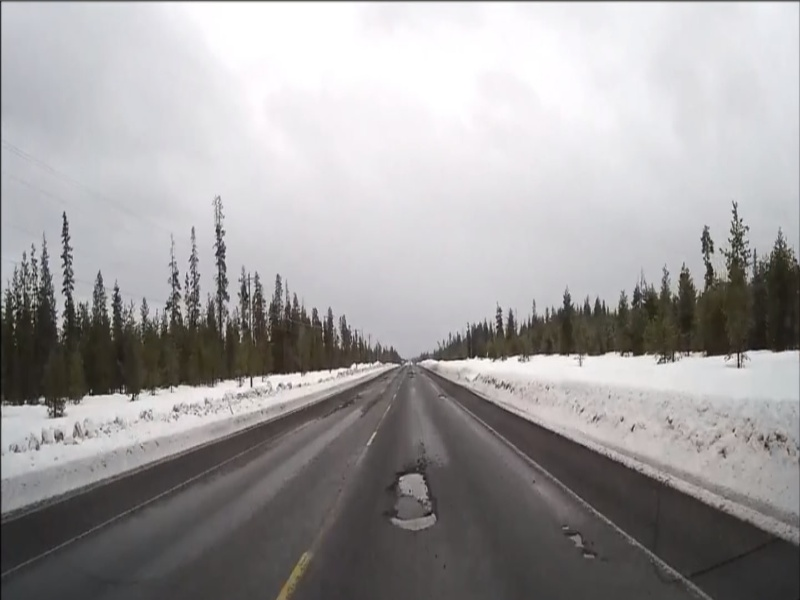pothole: (386, 463, 439, 536), (560, 526, 596, 560), (437, 390, 447, 400)
